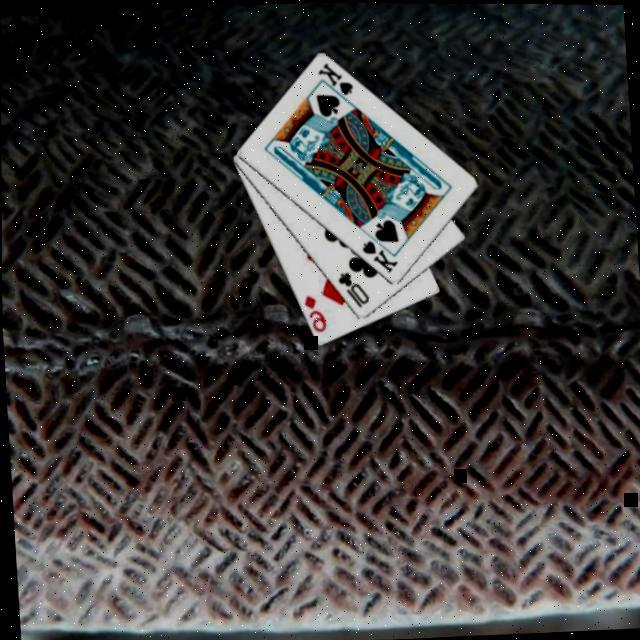10C: (333, 269, 371, 313)
9D: (299, 293, 327, 337)
KS: (313, 60, 355, 108), (357, 237, 399, 279)
